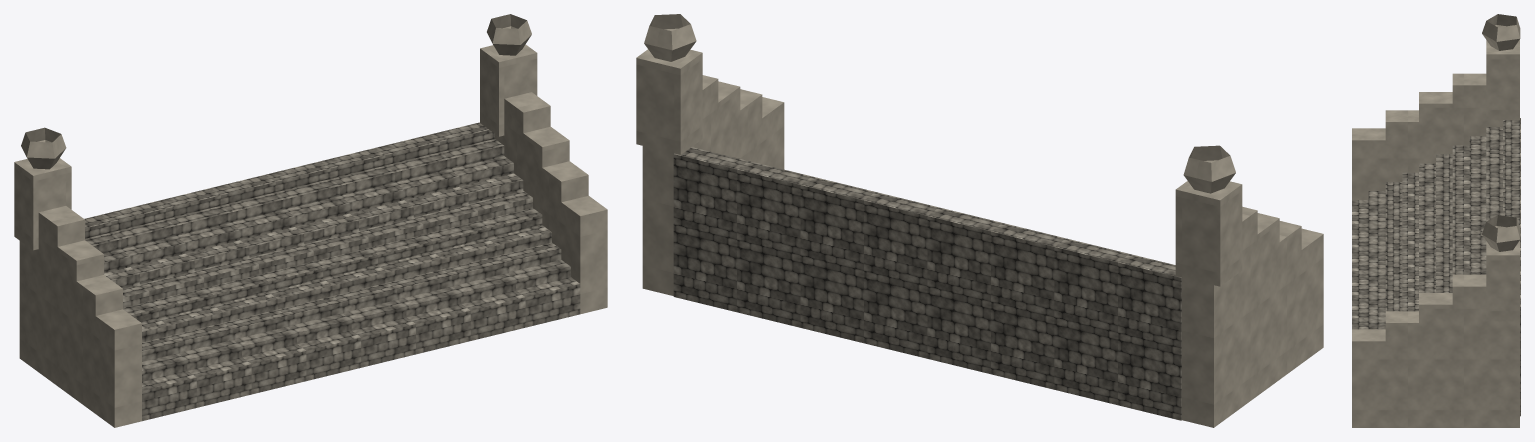
Rendered from Stairs_Monumental_1_LOD1.gltf.
3 views of the same model, side by side, from view 1: azimuth 30°, elevation 25°; view 2: azimuth 150°, elevation 25°; view 3: azimuth 270°, elevation 25° (orthographic). The views are drawn at different scales.
Visible parts, largest first — view 1: Stairs_Monumental_1_LOD1; view 2: Stairs_Monumental_1_LOD1; view 3: Stairs_Monumental_1_LOD1.
Boxes of the visible parts, left/top/right/bottom form: Stairs_Monumental_1_LOD1: left=14, top=14, right=607, bottom=427; Stairs_Monumental_1_LOD1: left=636, top=14, right=1323, bottom=427; Stairs_Monumental_1_LOD1: left=1352, top=14, right=1520, bottom=427.
Size of the model in its own units: 9.22 by 3.95 by 3.02.
2 materials, 2 textured.
